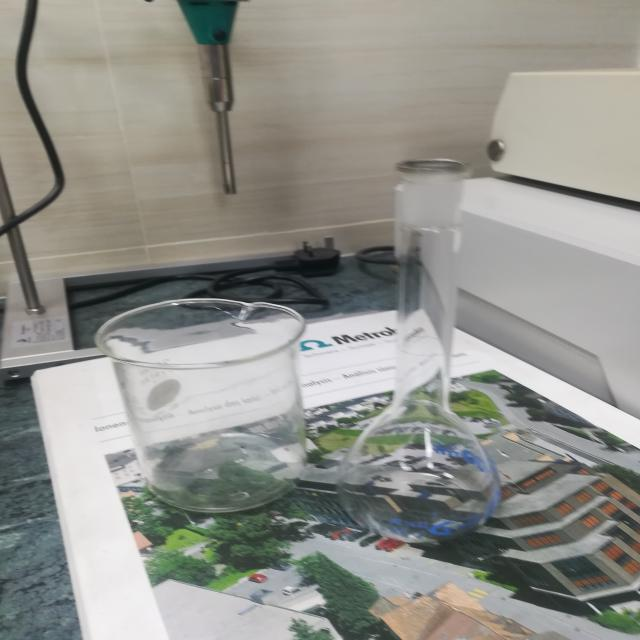Beaker: (73, 278, 325, 529)
Volumetric_Flask: (334, 137, 531, 563)
